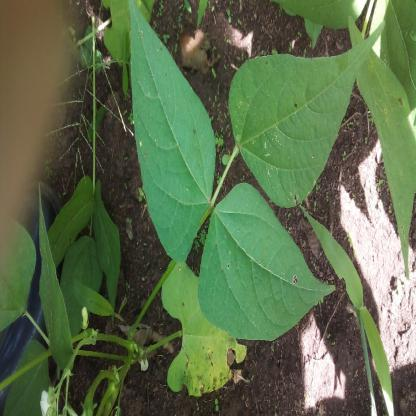Beans_Angular_LeafSpot: (197, 184, 342, 343), (160, 265, 256, 416)
